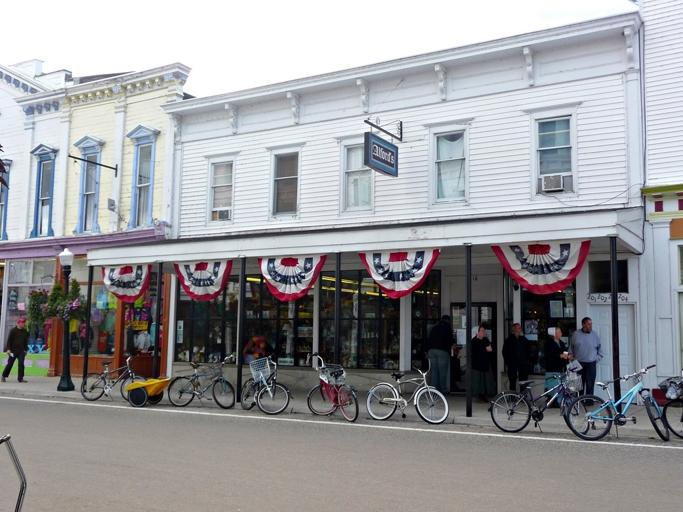non-vehicle: (562, 363, 669, 444), (485, 364, 592, 435), (363, 353, 449, 424), (300, 350, 361, 423), (166, 350, 242, 408), (235, 350, 296, 415), (77, 348, 153, 400), (662, 392, 682, 440)
